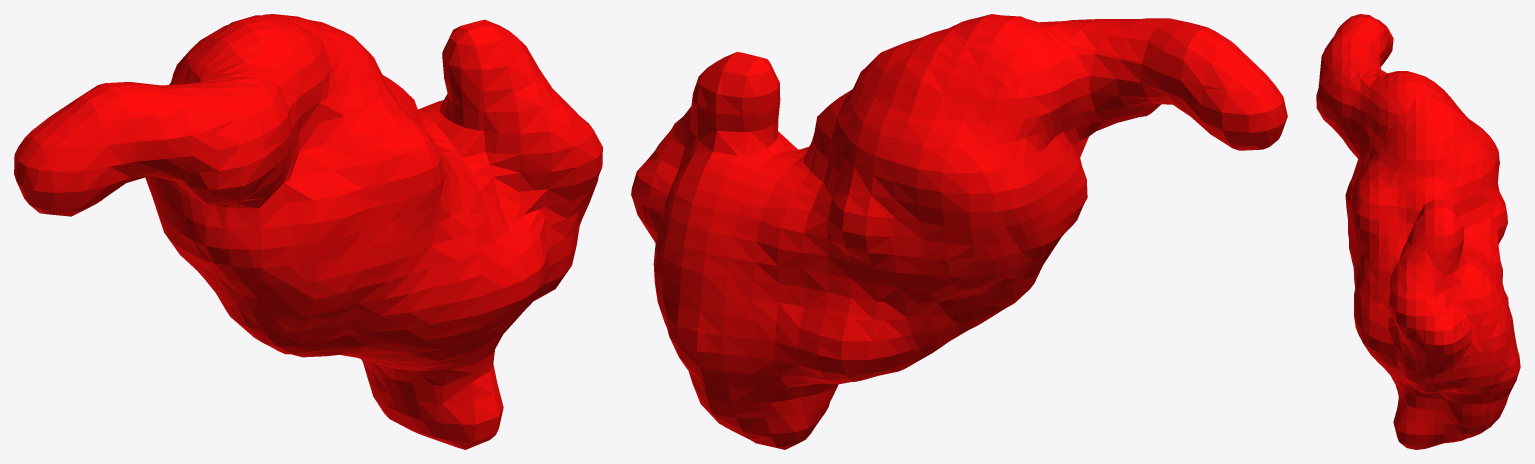
Rendered from Flotillin_1_Reggie_2_coarse.dae.
The picture shows the model from 3 angles, left to right: view 1: azimuth 30°, elevation 25°; view 2: azimuth 150°, elevation 25°; view 3: azimuth 270°, elevation 25°; orthographic projection. The views are drawn at different scales.
Parts seen in each view (by area): view 1: Flotillin_1_Reggie_2; view 2: Flotillin_1_Reggie_2; view 3: Flotillin_1_Reggie_2.
Part boxes in pixels (x1=…): Flotillin_1_Reggie_2: x1=14, y1=14, x2=602, y2=449; Flotillin_1_Reggie_2: x1=631, y1=14, x2=1287, y2=449; Flotillin_1_Reggie_2: x1=1316, y1=14, x2=1520, y2=449.
Bounding box in the file's own units: 81.11 × 59.66 × 35.85.
